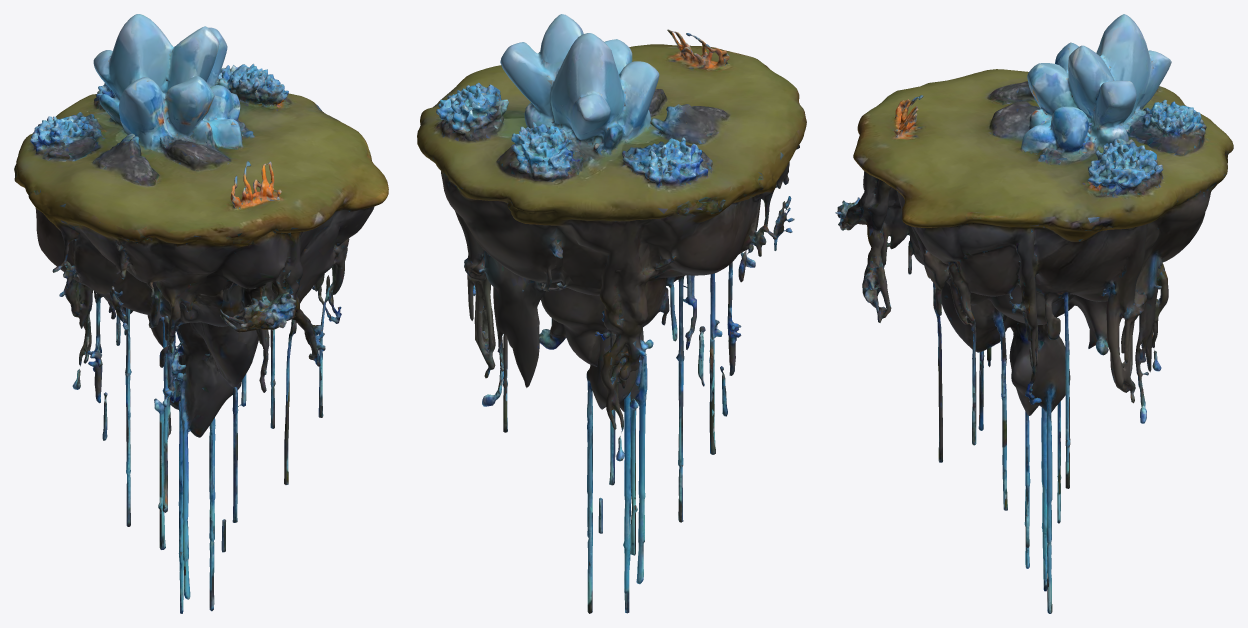
Rendered from Ethereal_Crystal_Isla.glb.
3 renders of one model, left to right at view 1: azimuth 30°, elevation 25°; view 2: azimuth 150°, elevation 25°; view 3: azimuth 270°, elevation 25°, orthographic. The views are drawn at different scales.
Parts seen in each view (by area): view 1: Ethereal_Crystal_Isla; view 2: Ethereal_Crystal_Isla; view 3: Ethereal_Crystal_Isla.
Part boxes in pixels (x1,y1,x2,y2): Ethereal_Crystal_Isla: [14, 14, 388, 613]; Ethereal_Crystal_Isla: [417, 14, 806, 613]; Ethereal_Crystal_Isla: [835, 14, 1233, 613].
Size of the model in its own units: 1.09 by 1.97 by 1.22.
Materials: 1 (1 with a texture image).
